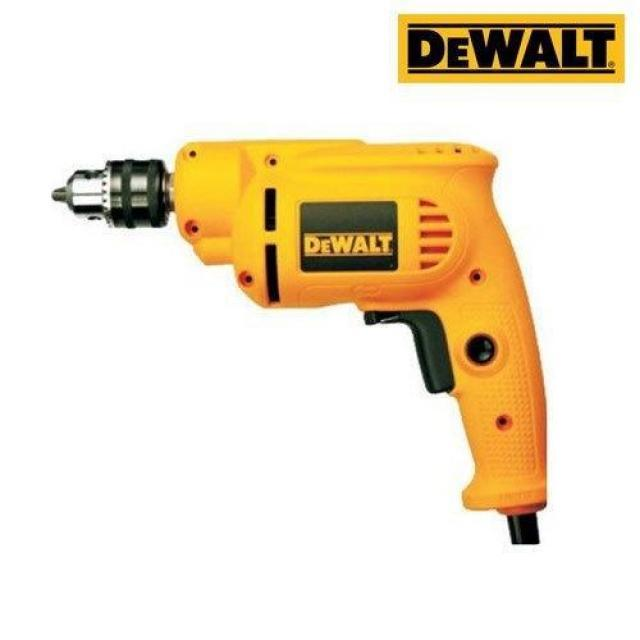drill: (51, 137, 554, 548)
